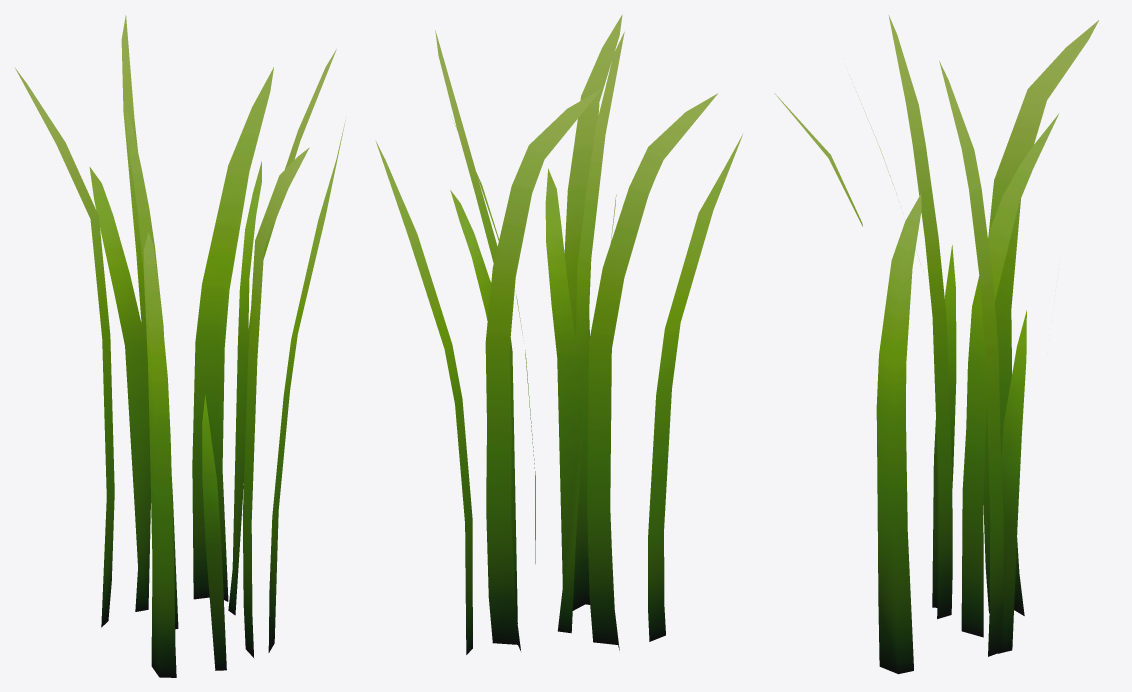
Rendered from tallgrass.glb.
The picture shows the model from 3 angles, left to right: view 1: azimuth 30°, elevation 25°; view 2: azimuth 150°, elevation 25°; view 3: azimuth 270°, elevation 25°; orthographic projection. The views are drawn at different scales.
Parts seen in each view (by area): view 1: Grass_Common_Tall; view 2: Grass_Common_Tall; view 3: Grass_Common_Tall.
Boxes of the visible parts, x1=… form: Grass_Common_Tall: x1=15, y1=15, x2=346, y2=677; Grass_Common_Tall: x1=375, y1=14, x2=743, y2=654; Grass_Common_Tall: x1=774, y1=15, x2=1098, y2=674.
Bounding box in the file's own units: 0.8951 × 1.87 × 0.9932.
1 material, 1 textured.
